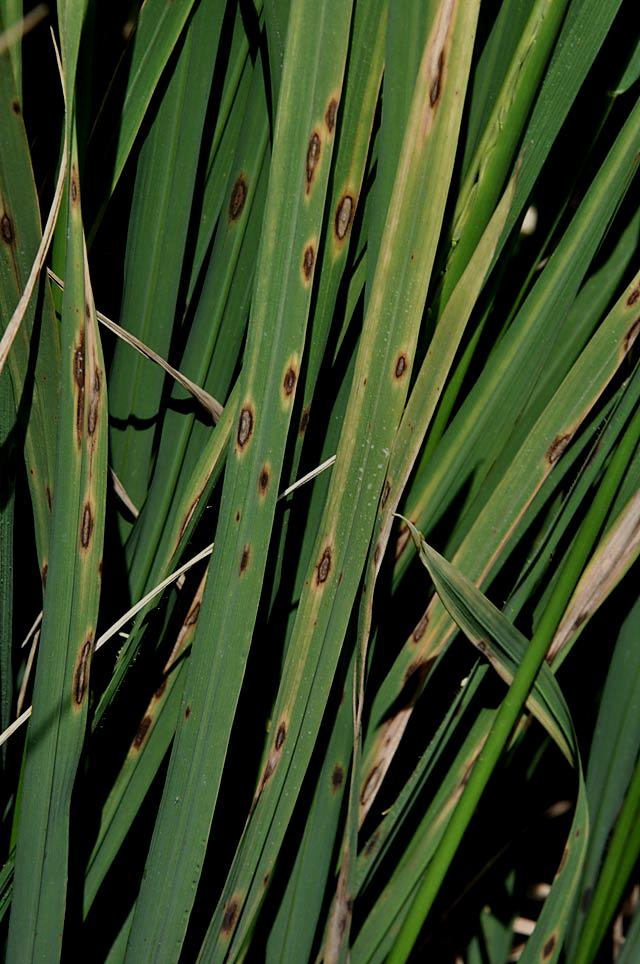0 BrownSpot: (66, 334, 110, 445), (59, 619, 100, 723), (218, 389, 261, 460), (418, 32, 451, 123), (66, 495, 105, 557), (613, 275, 640, 362), (295, 119, 324, 199), (322, 188, 362, 244), (216, 883, 253, 941), (542, 421, 580, 473), (308, 533, 341, 592), (312, 79, 346, 136), (276, 346, 303, 417), (550, 829, 581, 882), (123, 710, 165, 749), (225, 161, 251, 223), (57, 153, 84, 211), (295, 229, 321, 288), (323, 754, 357, 794), (1, 206, 27, 258), (360, 753, 386, 802), (532, 924, 571, 956), (388, 338, 413, 386), (265, 710, 296, 748), (406, 610, 435, 644), (229, 543, 255, 576), (5, 93, 30, 121), (176, 698, 193, 725)
